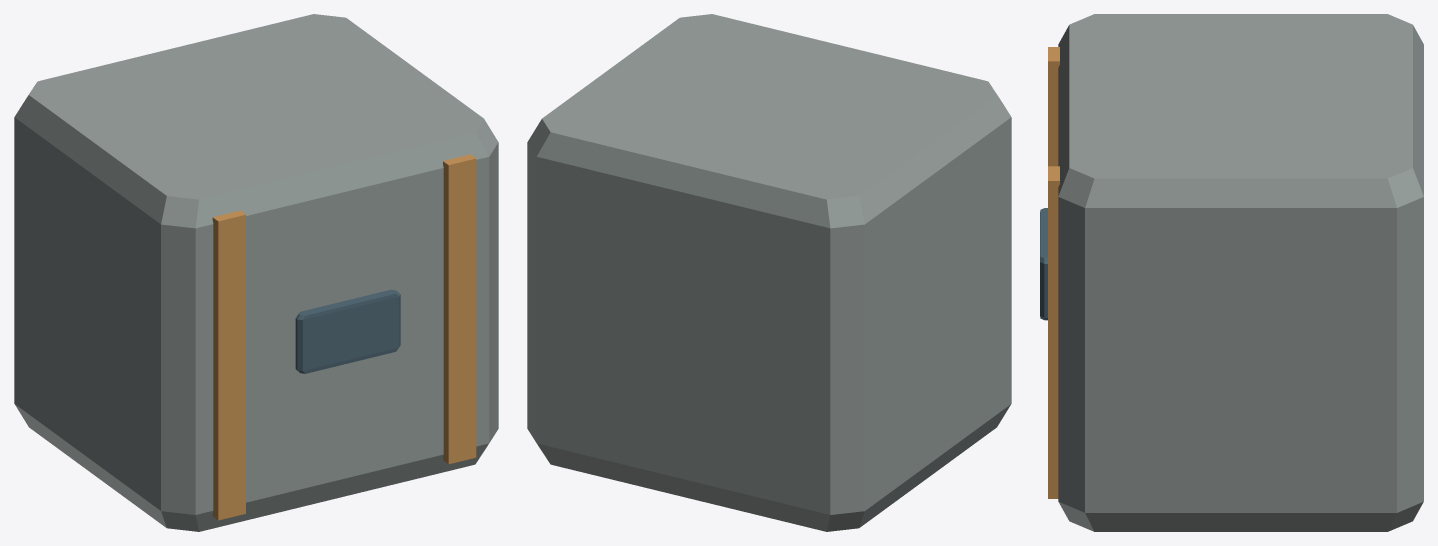
The model's file is SM_COM_PROP_000_CargoCrate.glb.
3 views of the same model, side by side, from view 1: azimuth 30°, elevation 25°; view 2: azimuth 150°, elevation 25°; view 3: azimuth 270°, elevation 25° (orthographic). The views are drawn at different scales.
Parts seen in each view (by area): view 1: SM_COM_PROP_000_CargoCrate; view 2: SM_COM_PROP_000_CargoCrate; view 3: SM_COM_PROP_000_CargoCrate.
Boxes of the visible parts, left/top/right/bottom form: SM_COM_PROP_000_CargoCrate: left=14, top=14, right=498, bottom=531; SM_COM_PROP_000_CargoCrate: left=527, top=14, right=1011, bottom=531; SM_COM_PROP_000_CargoCrate: left=1040, top=14, right=1423, bottom=531.
Size of the model in its own units: 0.85 by 0.8 by 0.7875.
